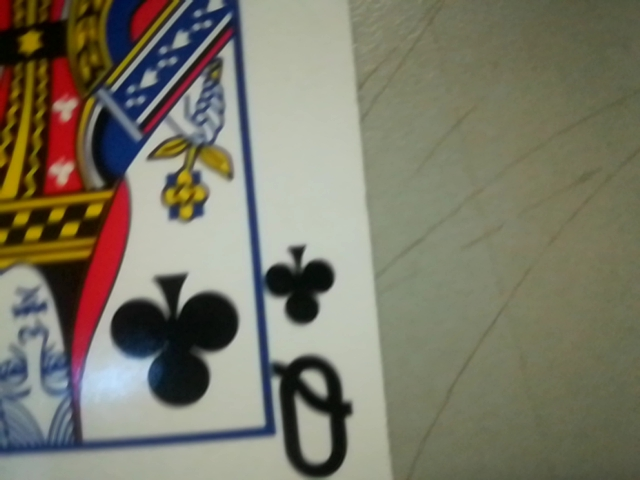mh q: (250, 237, 374, 479)
